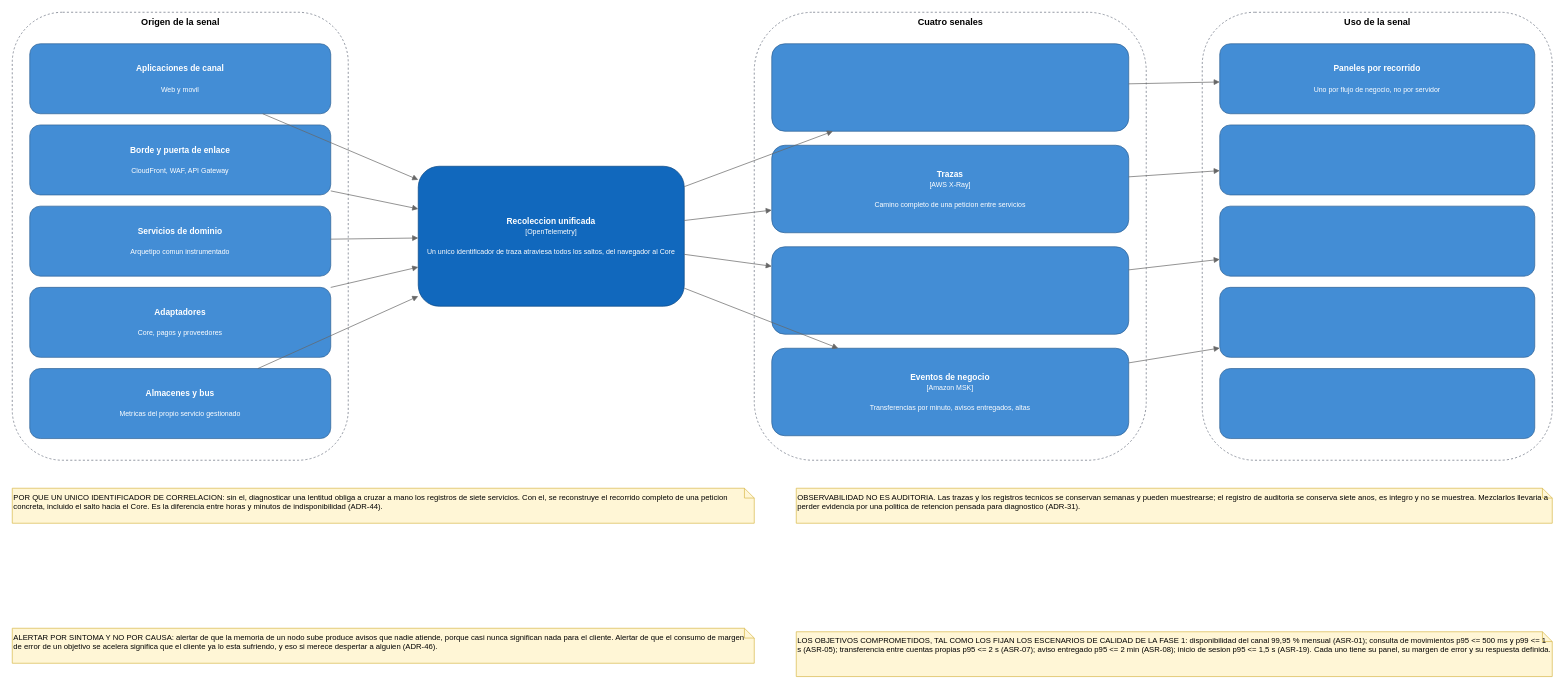
Some shapes in this 1565 by 689 pixel diagram are drawn without their labels. Here are the shapes that lost their labels. From the top down, the centre of each, then its label:
At pixel 950 87: "Metricas [Amazon CloudWatch] Latencia, tasa de error, saturacion y trafico".
At pixel 1377 159: "Objetivos de servicio Disponibilidad y latencia con margen de error".
At pixel 1377 240: "Alerta por sintoma Se alerta de lo que el cliente sufre".
At pixel 950 290: "Registros [OpenSearch] Estructurados, sin datos personales en claro".
At pixel 1377 322: "Auditoria y evidencia Camino separado, con retencion propia".
At pixel 1377 403: "Costo por servicio Etiquetado obligatorio en el despliegue".
